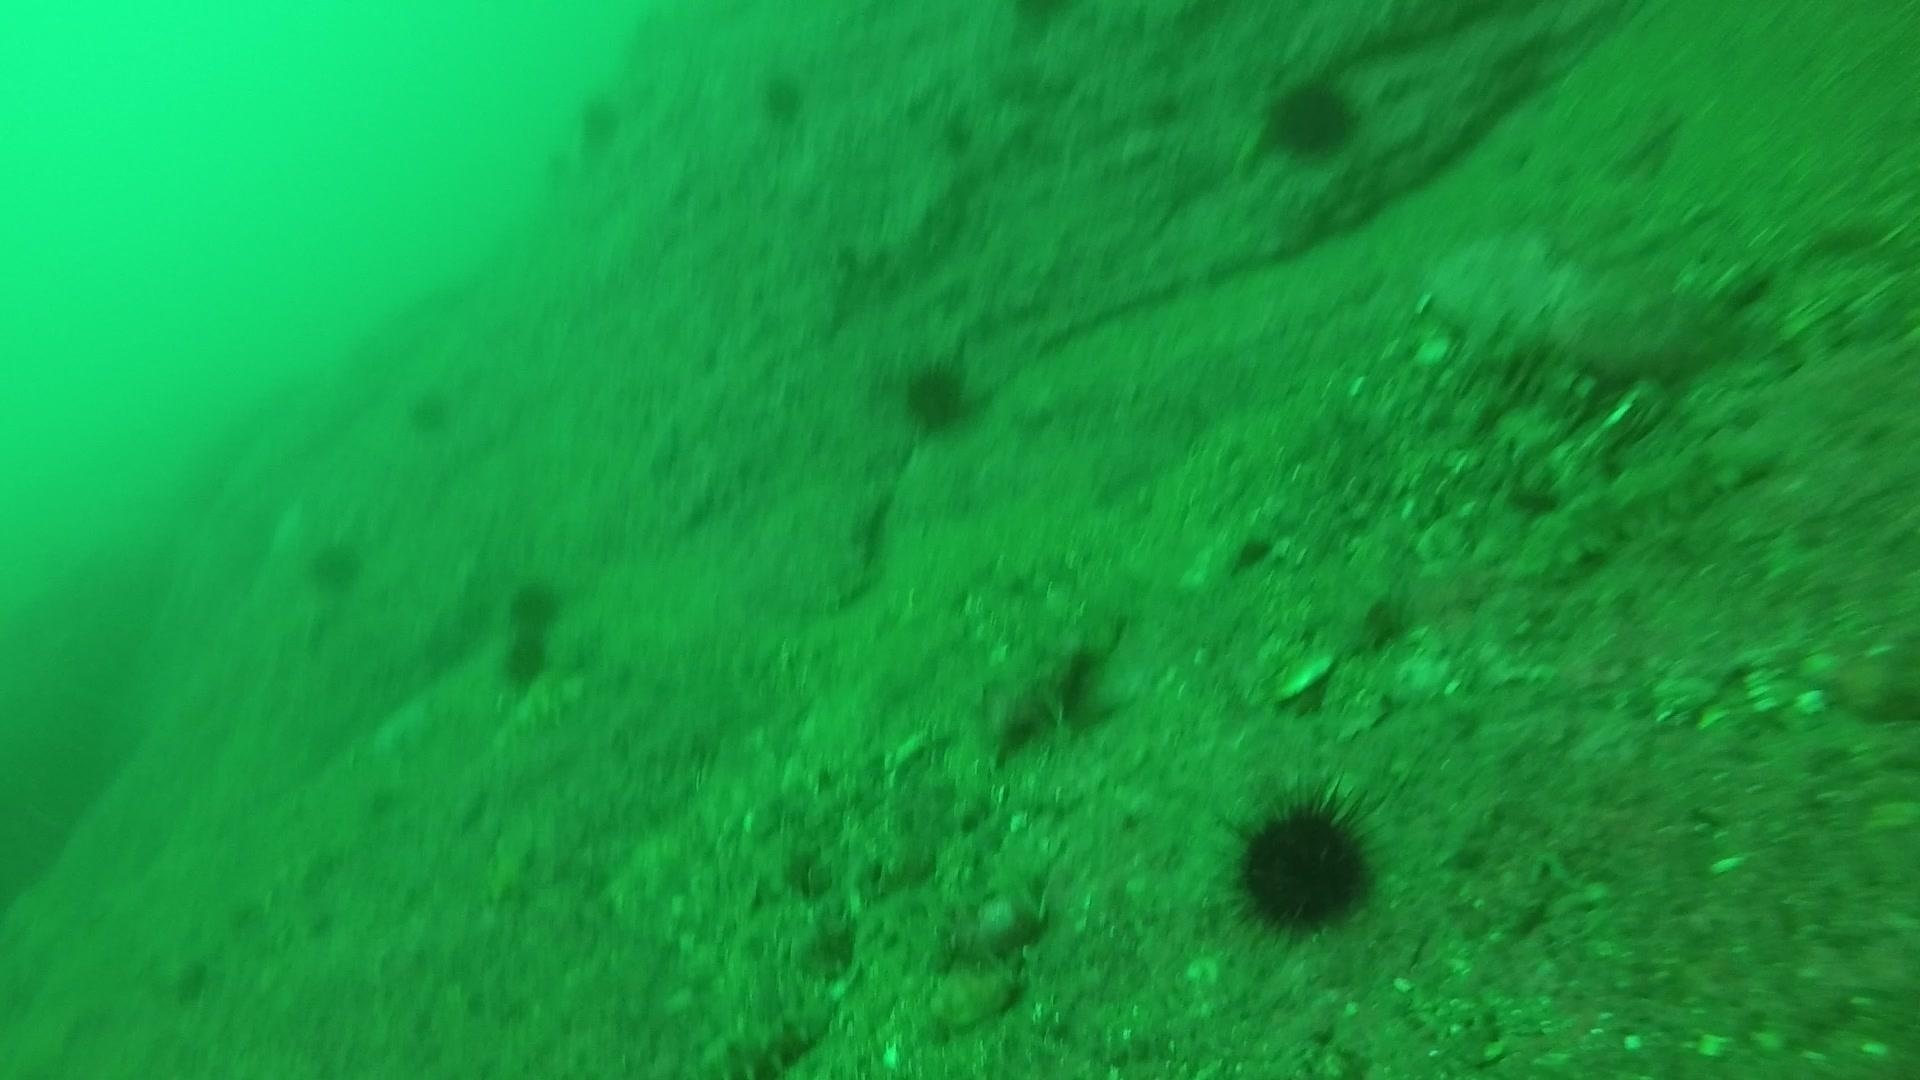echinus: (1222, 781, 1385, 942), (1261, 73, 1364, 162), (895, 353, 981, 436), (301, 531, 369, 596), (501, 574, 568, 636), (570, 88, 628, 153), (753, 66, 812, 127), (402, 382, 460, 438), (501, 638, 559, 694)
